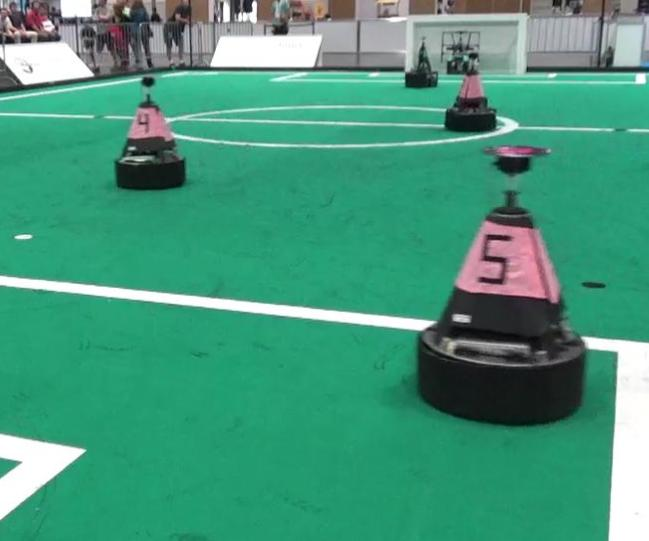robot: (413, 141, 591, 426), (112, 73, 188, 191), (440, 48, 498, 132), (401, 36, 441, 90)
